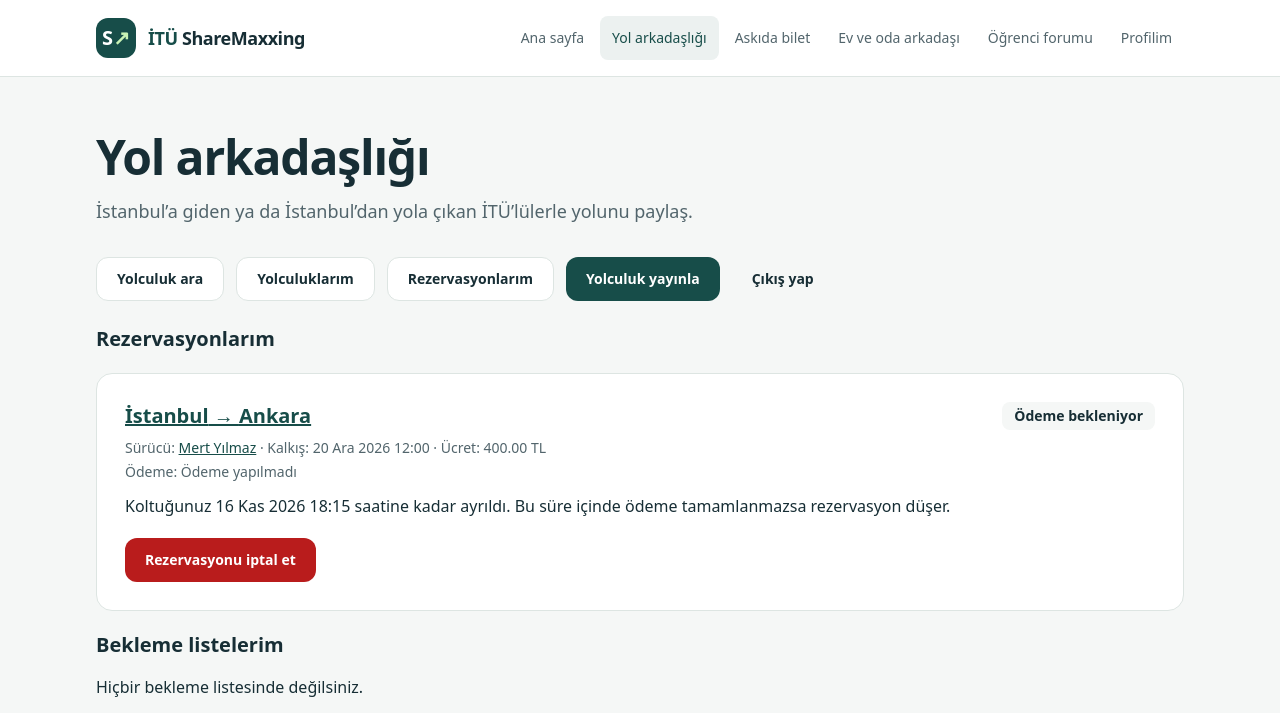
Test: cancels a booking only after confirmation
Click the button "Rezervasyonu iptal et" at (220, 560), box [125,538,316,582]
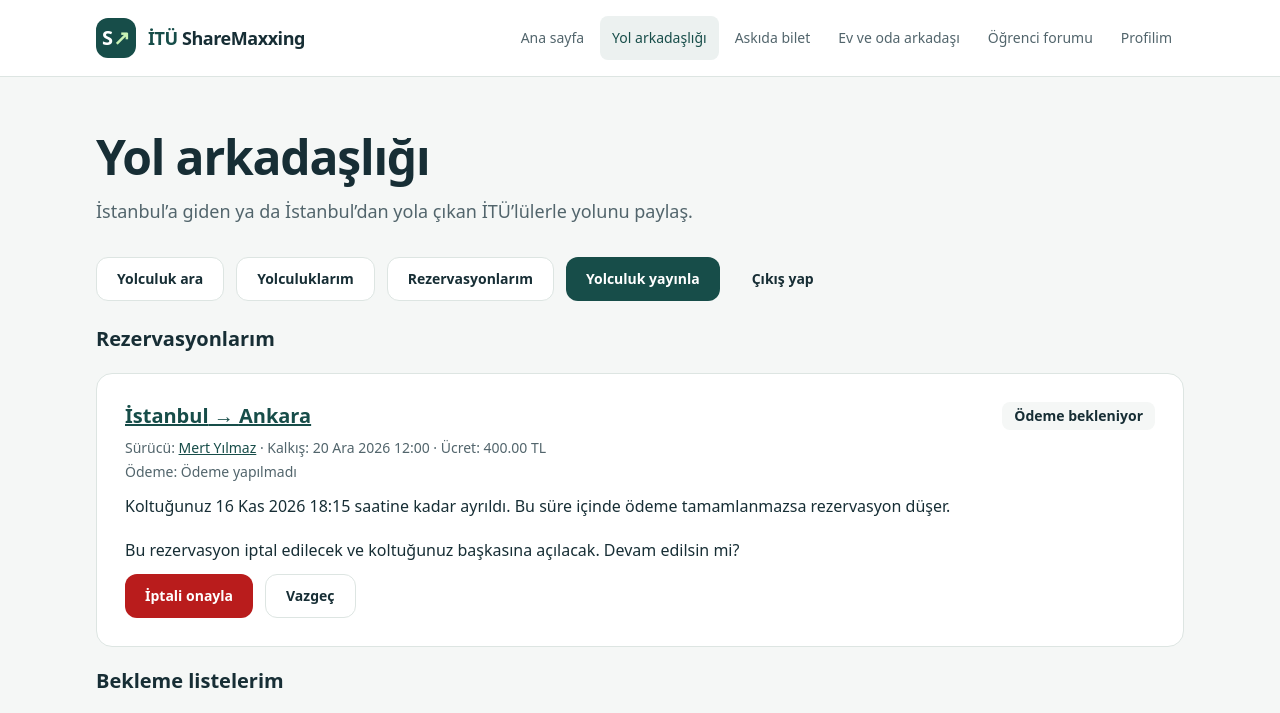
Click the button "Vazgeç" at (310, 596), box [265,574,356,618]
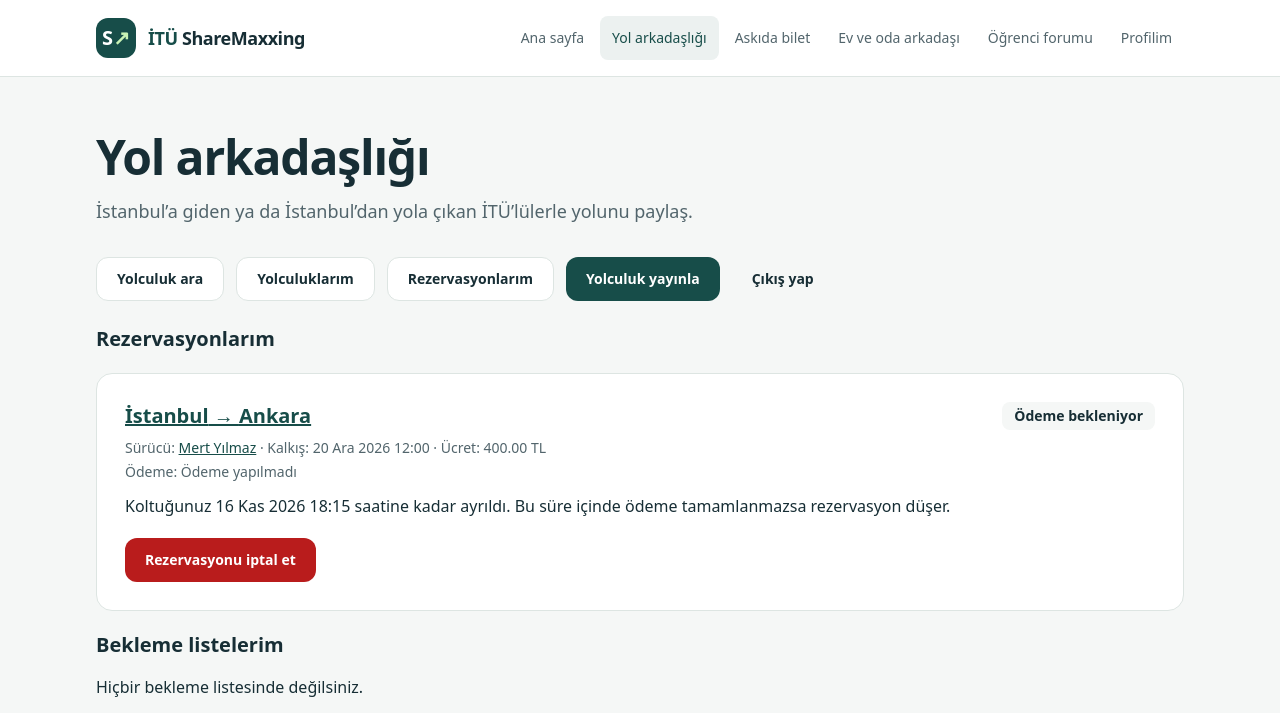
Click the button "Rezervasyonu iptal et" at (220, 560), box [125,538,316,582]
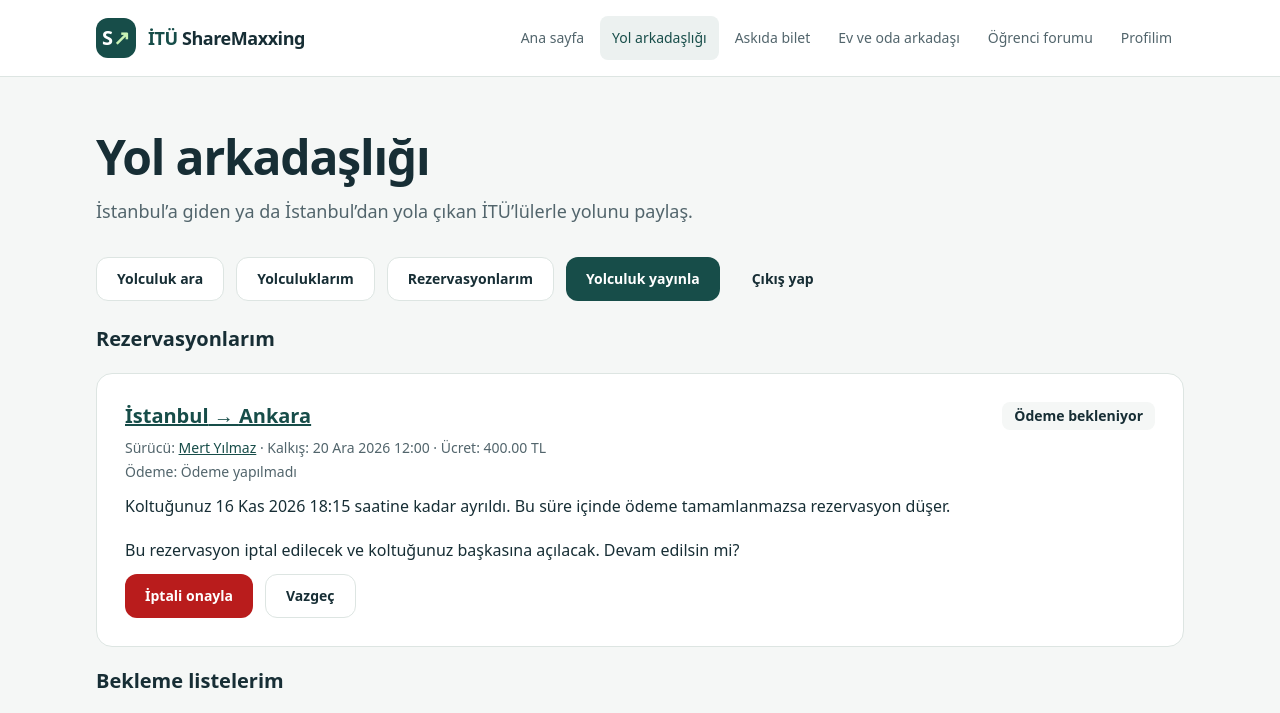
Click the button "İptali onayla" at (189, 596), box [125,574,253,618]
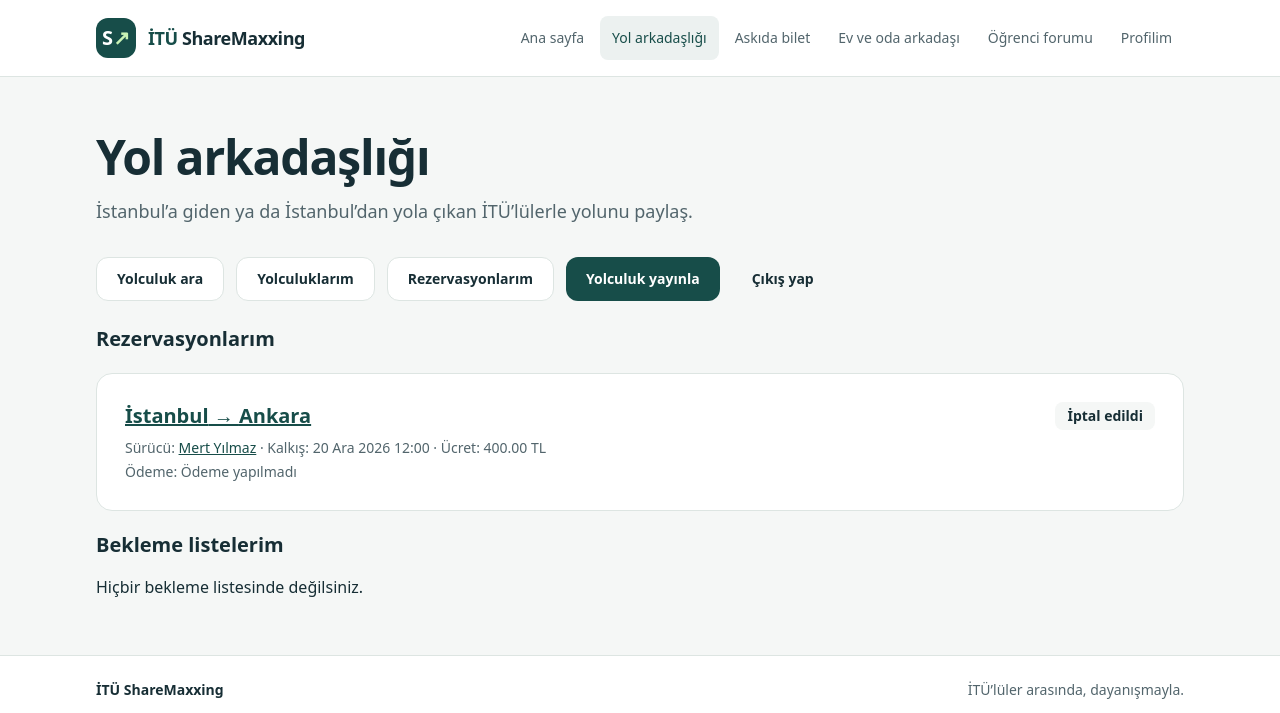
Expected: the button "Rezervasyonu iptal et" is not shown
Result: the text "İptal edildi" is shown at [1055,402,1155,430]
